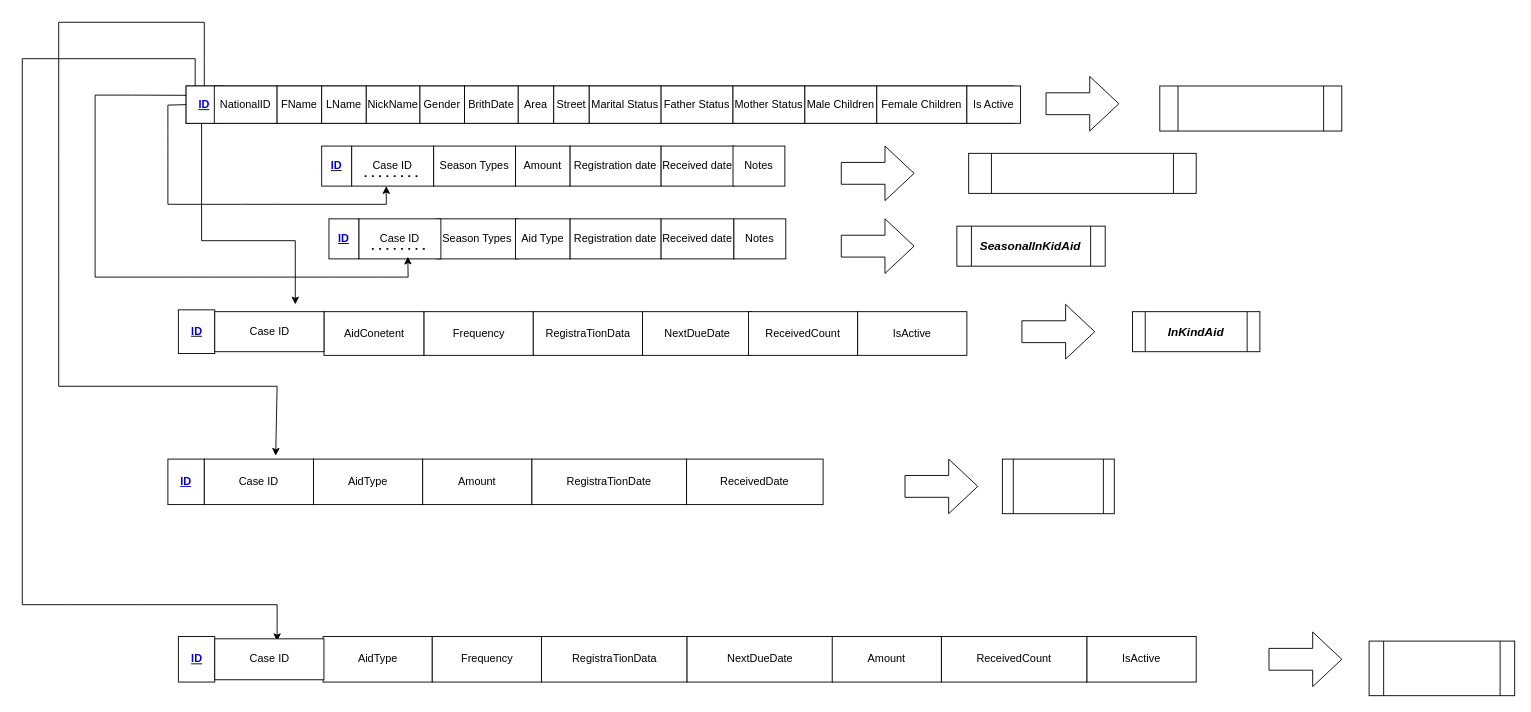
This 1531x712 diagram has some shape labels left out. Each missing label, with the box of its shape:
Cases: (1159, 85, 1342, 131)
FinancialAid: (1368, 640, 1515, 696)
SeasonallFinancialAid: (968, 152, 1196, 193)
SpecialAid: (1001, 458, 1114, 514)
